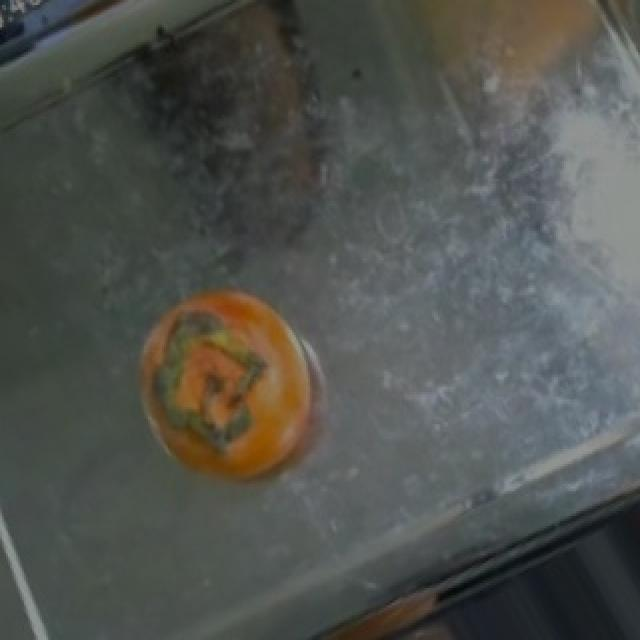Fruit: (114, 273, 350, 511)
